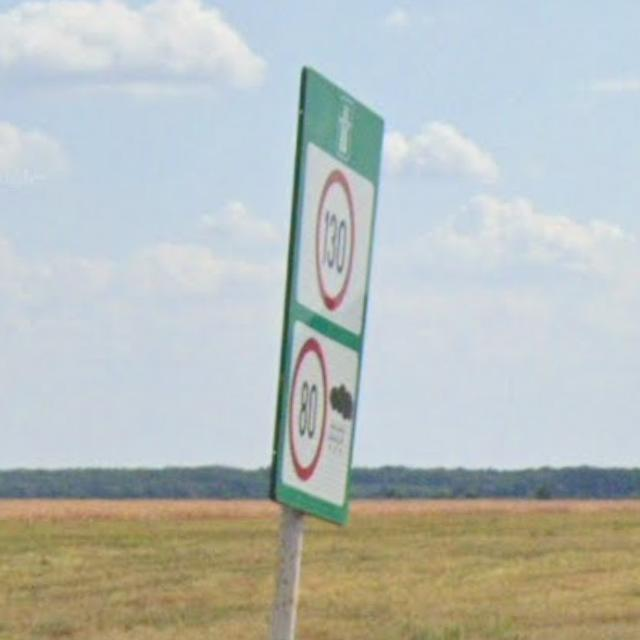forb_speed_over_80: (289, 337, 329, 481)
